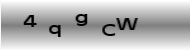4: (23, 14, 39, 29)
C: (101, 23, 116, 37)
W: (115, 17, 139, 31)
g: (74, 13, 88, 27)
q: (47, 24, 62, 38)
